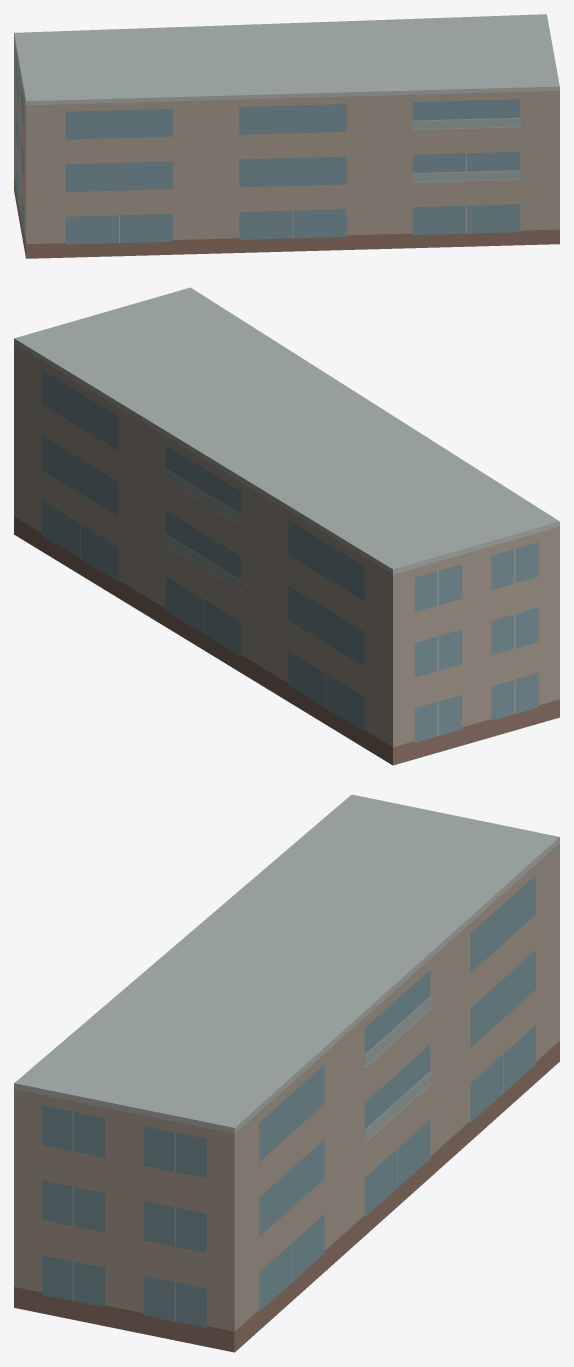
Rendered from survey-upis-32469821.glb.
The picture shows the model from 3 angles, top to bottom: view 1: azimuth 30°, elevation 25°; view 2: azimuth 150°, elevation 25°; view 3: azimuth 270°, elevation 25°; orthographic projection. The views are drawn at different scales.
Parts seen in each view (by area): view 1: survey-upis-32469821.tmp; view 2: survey-upis-32469821.tmp; view 3: survey-upis-32469821.tmp.
Part boxes in pixels (<box>): survey-upis-32469821.tmp: <box>14,14,559,258</box>; survey-upis-32469821.tmp: <box>14,287,559,765</box>; survey-upis-32469821.tmp: <box>14,794,559,1352</box>.
Size of the model in its own units: 29.16 by 9.15 by 20.17.
